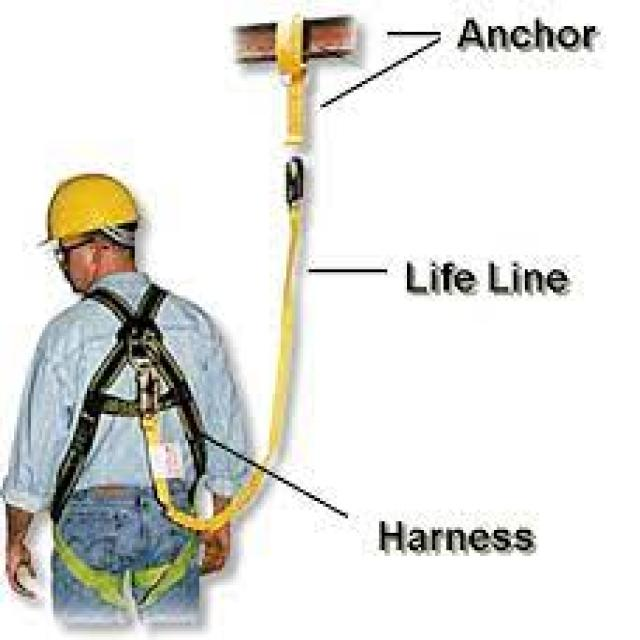harness: (128, 146, 311, 541)
